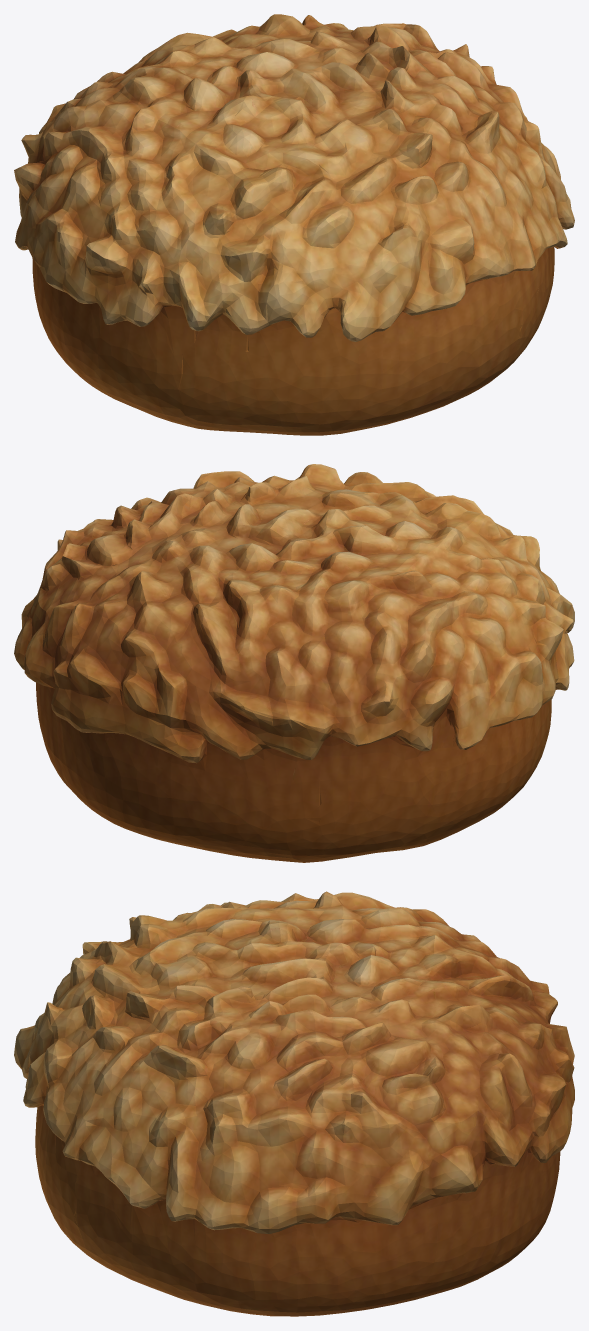
File: barazek.glb
3 renders of one model, top to bottom at view 1: azimuth 30°, elevation 25°; view 2: azimuth 150°, elevation 25°; view 3: azimuth 270°, elevation 25°, orthographic. The views are drawn at different scales.
Parts seen in each view (by area): view 1: geometry_0; view 2: geometry_0; view 3: geometry_0.
Boxes of the visible parts, x1,y1,x2,y2 form: geometry_0: [14, 14, 574, 435]; geometry_0: [14, 464, 574, 862]; geometry_0: [14, 891, 574, 1316].
Size of the model in its own units: 0.9965 by 0.5153 by 0.9524.
Materials: 1 (1 with a texture image).
